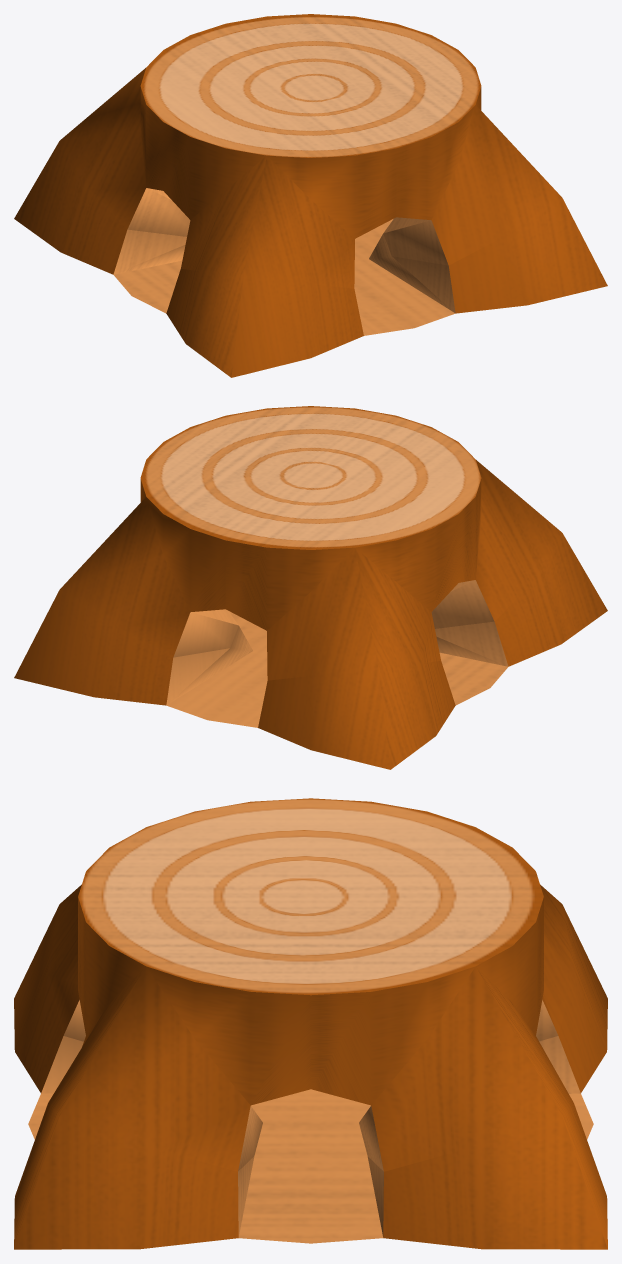
File: nestB.fbx
3 views of the same model, one above another, from view 1: azimuth 30°, elevation 25°; view 2: azimuth 150°, elevation 25°; view 3: azimuth 270°, elevation 25° (orthographic). The views are drawn at different scales.
Visible parts, largest first — view 1: wood_ne00, wood_ne01, wood_ne02, wood_ne04, base; view 2: wood_ne00, wood_ne04, wood_ne03, wood_ne01, base; view 3: wood_ne00, wood_ne03, wood_ne02, base, wood_ne01, wood_ne04.
Part boxes in pixels (bbox=[...]): wood_ne00: bbox=[140, 14, 481, 238]; wood_ne01: bbox=[166, 156, 363, 377]; wood_ne02: bbox=[369, 105, 607, 313]; wood_ne04: bbox=[14, 68, 190, 274]; base: bbox=[113, 219, 454, 335]; wood_ne00: bbox=[140, 406, 481, 630]; wood_ne04: bbox=[258, 548, 455, 769]; wood_ne03: bbox=[14, 497, 252, 705]; wood_ne01: bbox=[431, 460, 607, 666]; base: bbox=[167, 611, 508, 727]; wood_ne00: bbox=[78, 798, 543, 1105]; wood_ne03: bbox=[359, 966, 607, 1249]; wood_ne02: bbox=[14, 966, 262, 1249]; base: bbox=[28, 1089, 593, 1243]; wood_ne01: bbox=[14, 884, 85, 1093]; wood_ne04: bbox=[536, 884, 607, 1093].
Bounding box in the file's own units: 4.26 × 1.8 × 4.26.
